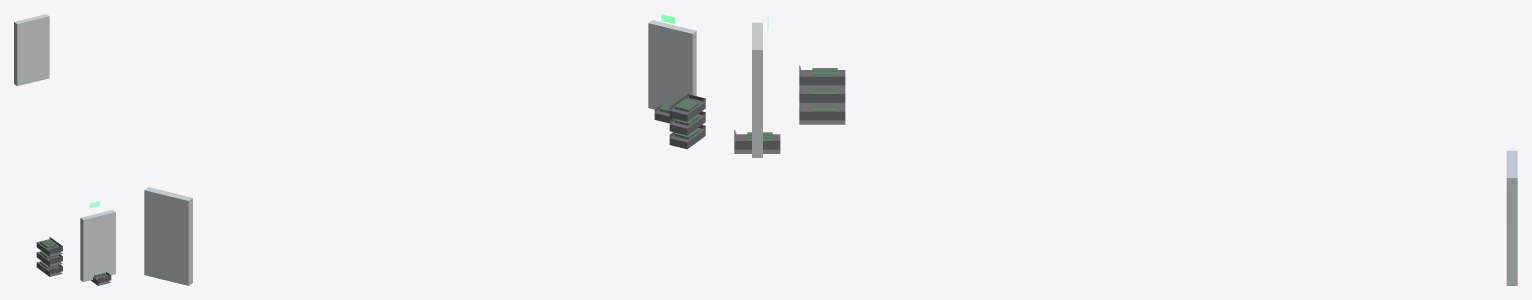
3 renders of one model, left to right at view 1: azimuth 30°, elevation 25°; view 2: azimuth 150°, elevation 25°; view 3: azimuth 270°, elevation 25°, orthographic. The views are drawn at different scales.
Visible parts, largest first — view 1: frame (×2), front_bezel (×4), chassis_nx (×3); view 2: frame (×2); view 3: frame (×2).
Boxes of the visible parts, x1,y1,x2,y2 form: frame (×2): (14,14,115,281); front_bezel (×4): (49,246,111,283); chassis_nx (×3): (36,243,49,276); frame (×2): (144,20,696,285); frame (×2): (752,22,1517,285).
Bounding box in the file's own units: 7.54 × 2.66 × 14.47.
